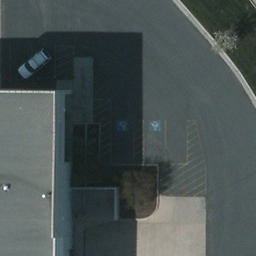car: (14, 47, 54, 82)
